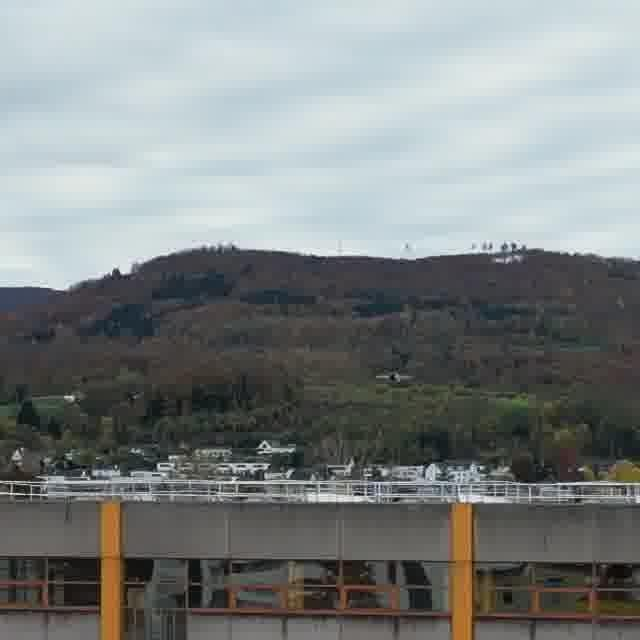Drohne: (377, 371, 411, 382)
